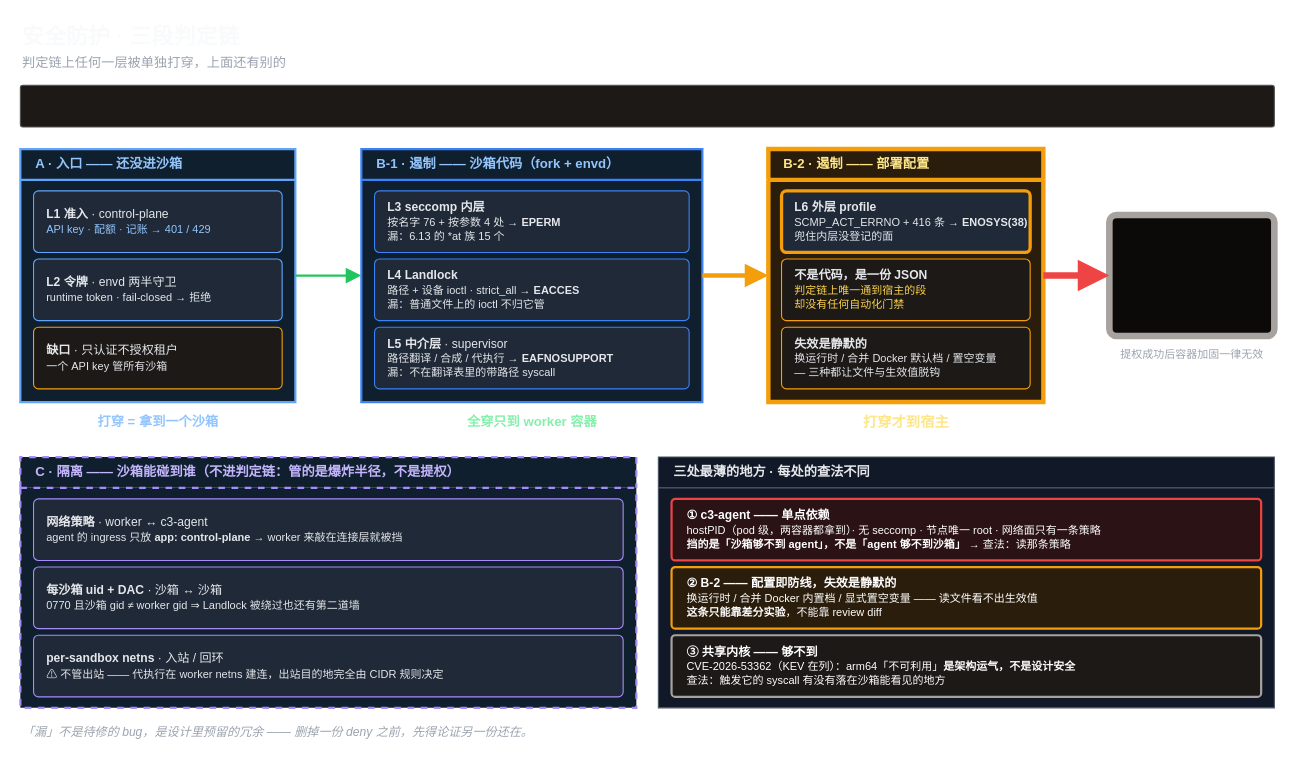
This 1315x763 diagram has some shape labels left out. Here are the shapes that lost their labels. From the top down, the centre of each, then its label:
At point (646, 105): "威胁模型 ：攻击者 已经在沙箱内拿到任意代码执行 —— 下面每一段挡的都是这个前提之后的攻击。A 类挡不住这个前提之前的事，所以它只是准入。".
At point (1191, 275): "宿主机 kernel 共用内核".
